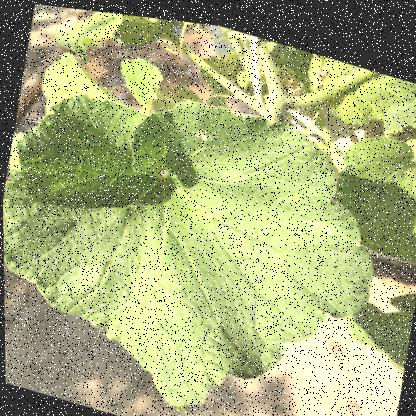Normal: (3, 55, 317, 342)
